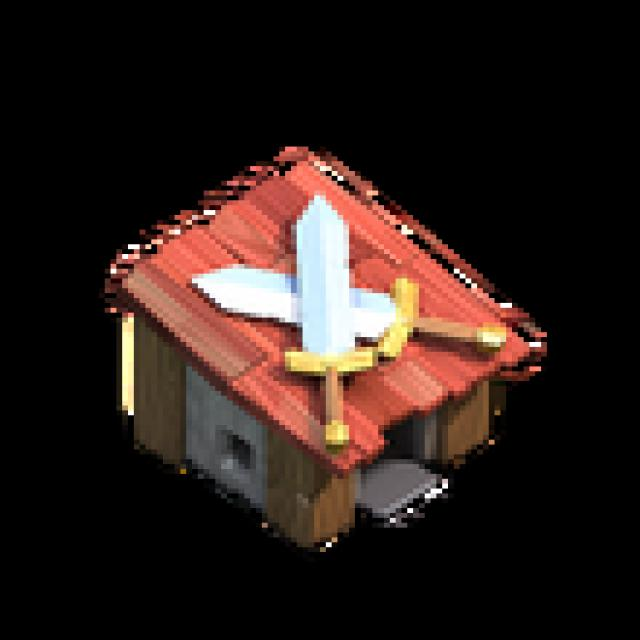barracks: (100, 149, 548, 570)
